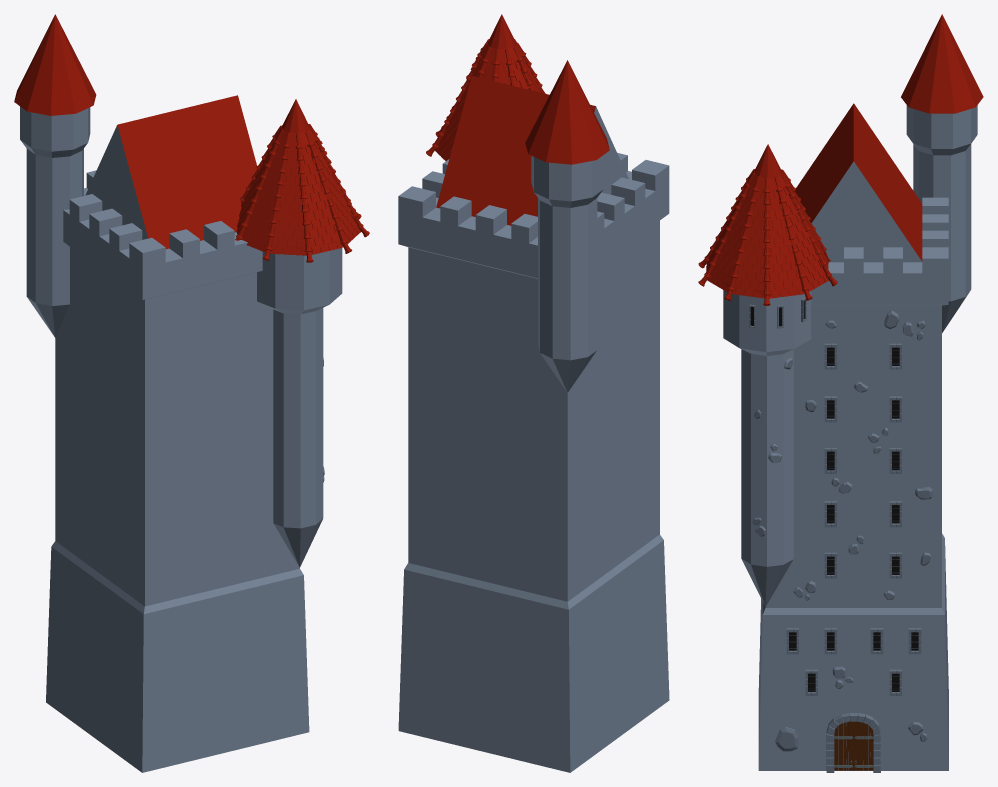
Rendered from DungeonMenu.fbx.
3 views of the same model, side by side, from view 1: azimuth 30°, elevation 25°; view 2: azimuth 150°, elevation 25°; view 3: azimuth 270°, elevation 25° (orthographic). The views are drawn at different scales.
Visible parts, largest first — view 1: Circle, Cube.006; view 2: Circle, Cube.006; view 3: Circle, Cube.006, Cube.001, Cube.012, Plane, Cube.
Part boxes in pixels (left/top/right/bottom): Circle: left=14, top=14, right=357, bottom=772; Cube.006: left=235, top=124, right=369, bottom=262; Circle: left=398, top=14, right=669, bottom=772; Cube.006: left=426, top=39, right=545, bottom=160; Circle: left=717, top=14, right=983, bottom=770; Cube.006: left=698, top=169, right=837, bottom=305; Cube.001: left=786, top=343, right=921, bottom=695; Cube.012: left=752, top=310, right=932, bottom=751; Plane: left=834, top=721, right=873, bottom=770; Cube: left=826, top=713, right=880, bottom=772.
Bounding box in the file's own units: 175 × 458 × 174.
1 material, 1 textured.
